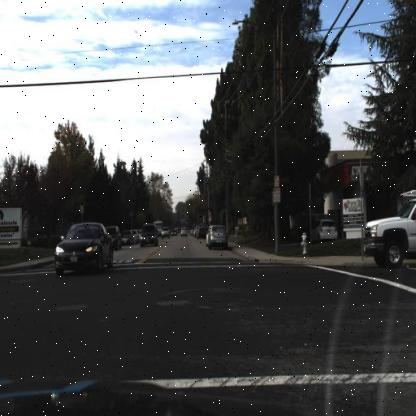car: (356, 182, 415, 271), (47, 214, 116, 278), (312, 212, 340, 244), (204, 222, 231, 253), (138, 218, 161, 251), (118, 226, 135, 247), (159, 225, 173, 243), (179, 224, 193, 242)
